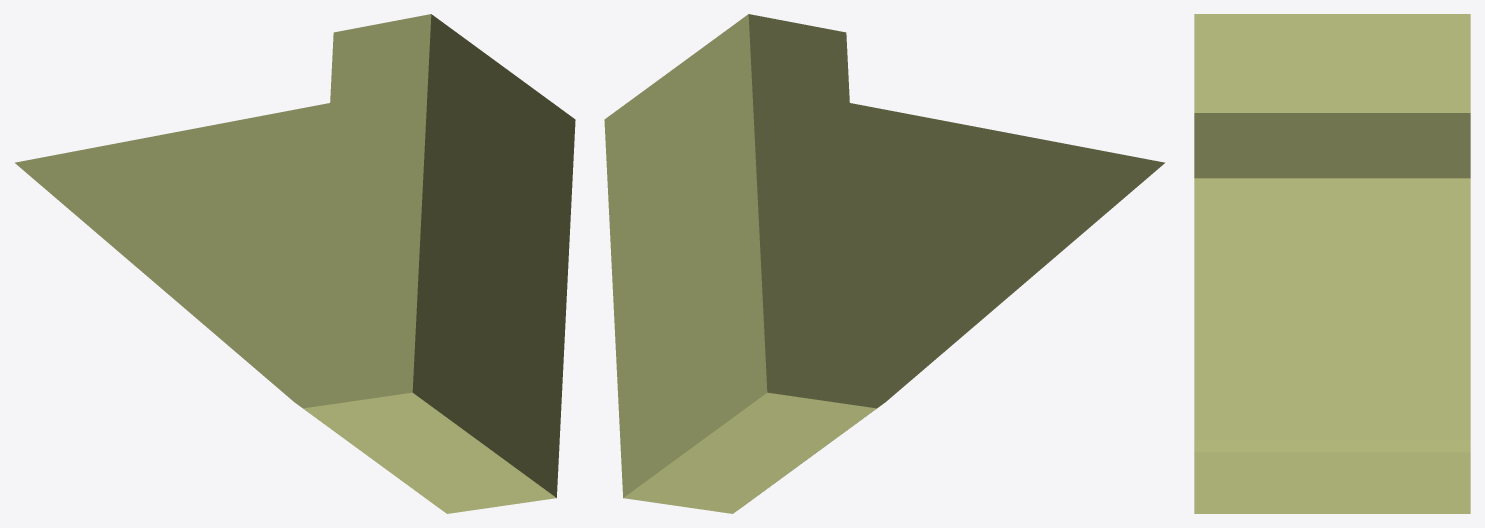
3 renders of one model, left to right at view 1: azimuth 30°, elevation 25°; view 2: azimuth 150°, elevation 25°; view 3: azimuth 270°, elevation 25°, orthographic. The views are drawn at different scales.
Parts seen in each view (by area): view 1: 0_3_2_0_1_0_3_3_1; view 2: 0_3_2_0_1_0_3_3_1; view 3: 0_3_2_0_1_0_3_3_1.
Part boxes in pixels (box(x1,y1,x2,y2)): 0_3_2_0_1_0_3_3_1: box(15, 14, 575, 513); 0_3_2_0_1_0_3_3_1: box(604, 14, 1164, 513); 0_3_2_0_1_0_3_3_1: box(1194, 14, 1470, 513).
Size of the model in its own units: 10.02 by 8.71 by 6.
